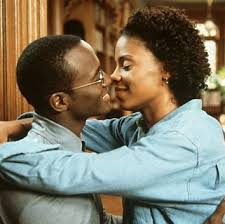black_male: (5, 28, 113, 124)
